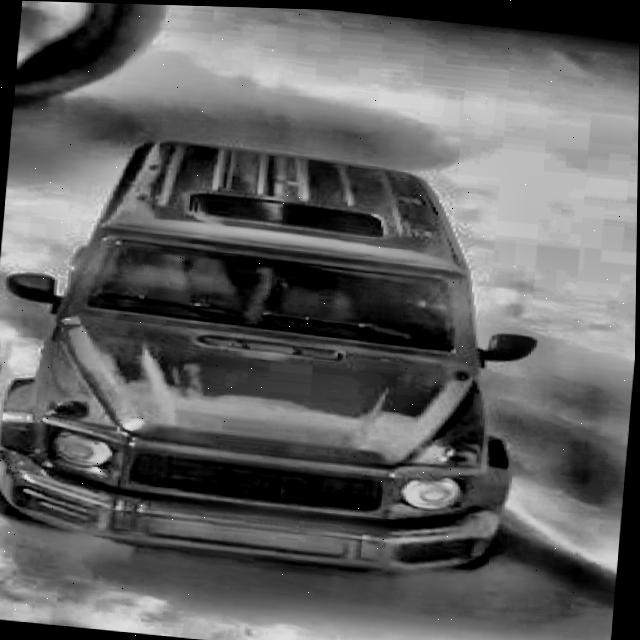light_vehicle: (0, 111, 560, 582)
